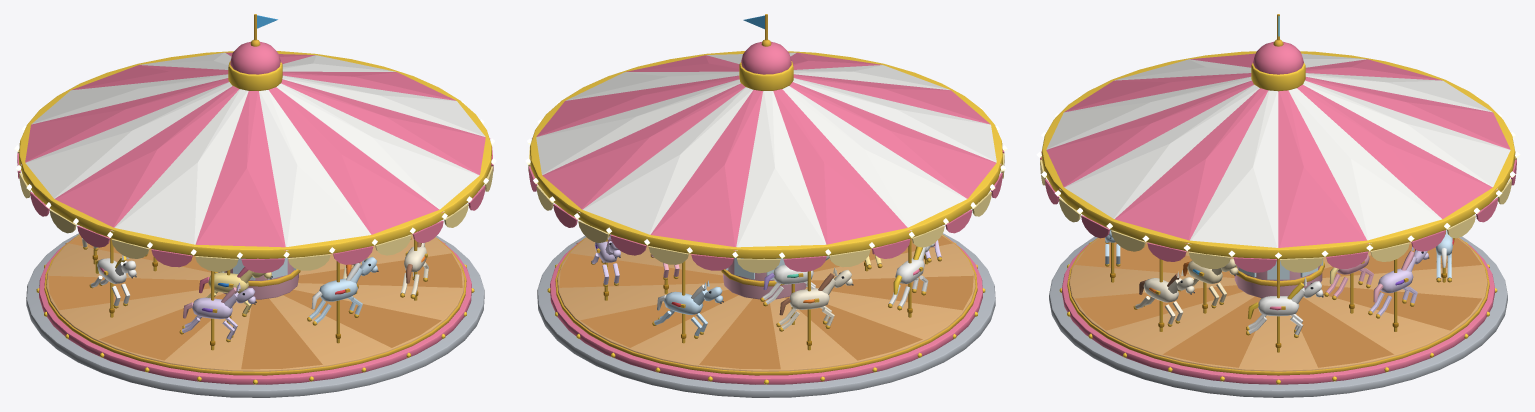
The model's file is carrossel.glb.
3 renders of one model, left to right at view 1: azimuth 30°, elevation 25°; view 2: azimuth 150°, elevation 25°; view 3: azimuth 270°, elevation 25°, orthographic.
Parts seen in each view (by area): view 1: plataforma, carrossel, cavalo_7, cavalo_6, cavalo_5, cavalo_11, cavalo_8, lampadas; view 2: plataforma, carrossel, cavalo_4, cavalo_3, cavalo_5, cavalo_10, cavalo_2, lampadas; view 3: plataforma, carrossel, cavalo_1, cavalo_2, cavalo_8, cavalo_12, cavalo_9, cavalo_3, lampadas.
Boxes of the visible parts, <box> form: plataforma: <box>17,14,493,375</box>; carrossel: <box>26,233,484,397</box>; cavalo_7: <box>307,256,378,325</box>; cavalo_6: <box>179,282,256,342</box>; cavalo_5: <box>89,255,136,308</box>; cavalo_11: <box>199,267,272,316</box>; cavalo_8: <box>400,231,428,298</box>; lampadas: <box>14,76,496,258</box>; plataforma: <box>528,14,1004,375</box>; carrossel: <box>537,233,995,397</box>; cavalo_4: <box>776,267,853,331</box>; cavalo_3: <box>652,280,723,338</box>; cavalo_5: <box>888,243,934,310</box>; cavalo_10: <box>760,255,829,306</box>; cavalo_2: <box>591,234,620,287</box>; lampadas: <box>525,76,1007,258</box>; plataforma: <box>1040,14,1516,375</box>; carrossel: <box>1049,236,1507,397</box>; cavalo_1: <box>1246,277,1323,338</box>; cavalo_2: <box>1368,246,1429,318</box>; cavalo_8: <box>1133,270,1194,326</box>; cavalo_12: <box>1178,256,1238,308</box>; cavalo_9: <box>1324,251,1373,300</box>; cavalo_3: <box>1435,229,1454,282</box>; lampadas: <box>1036,80,1520,258</box>.
Bounding box in the file's own units: 13.3 × 8.7 × 13.3.
3 materials, 1 textured.
